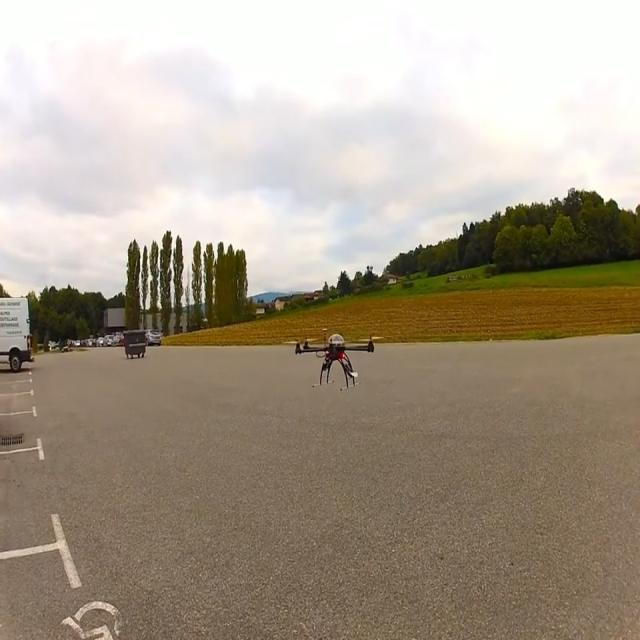drone: (294, 327, 375, 389)
